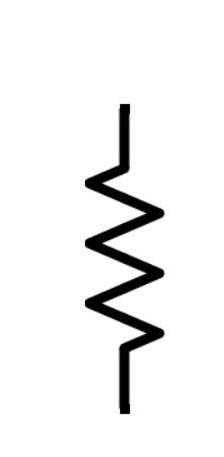resistor: (62, 123, 193, 394)
